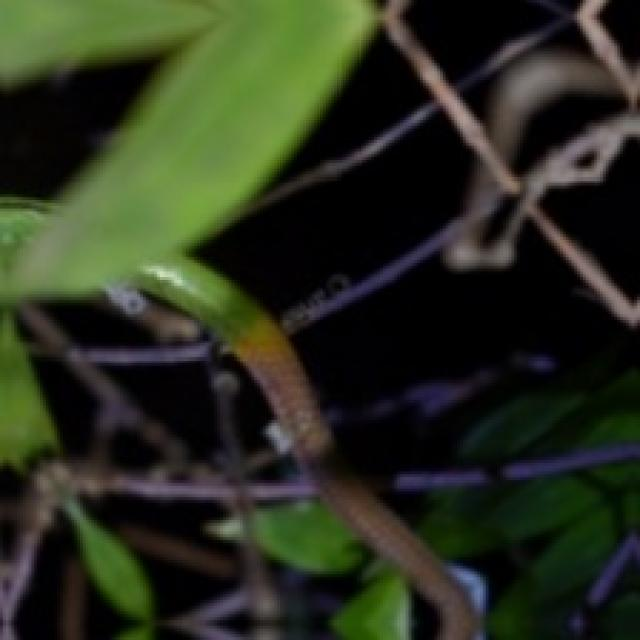red-tailed green ratsnake: (136, 252, 476, 639)
